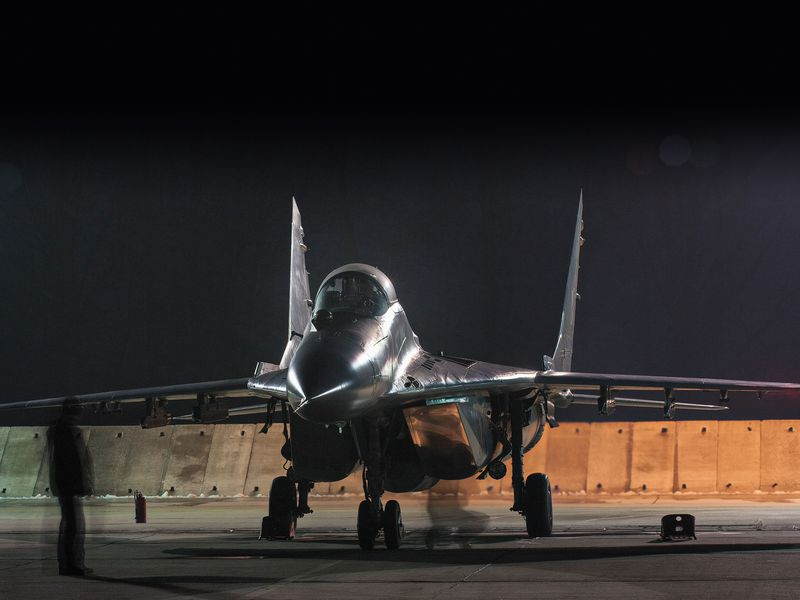Mig-29: (16, 174, 750, 565)
